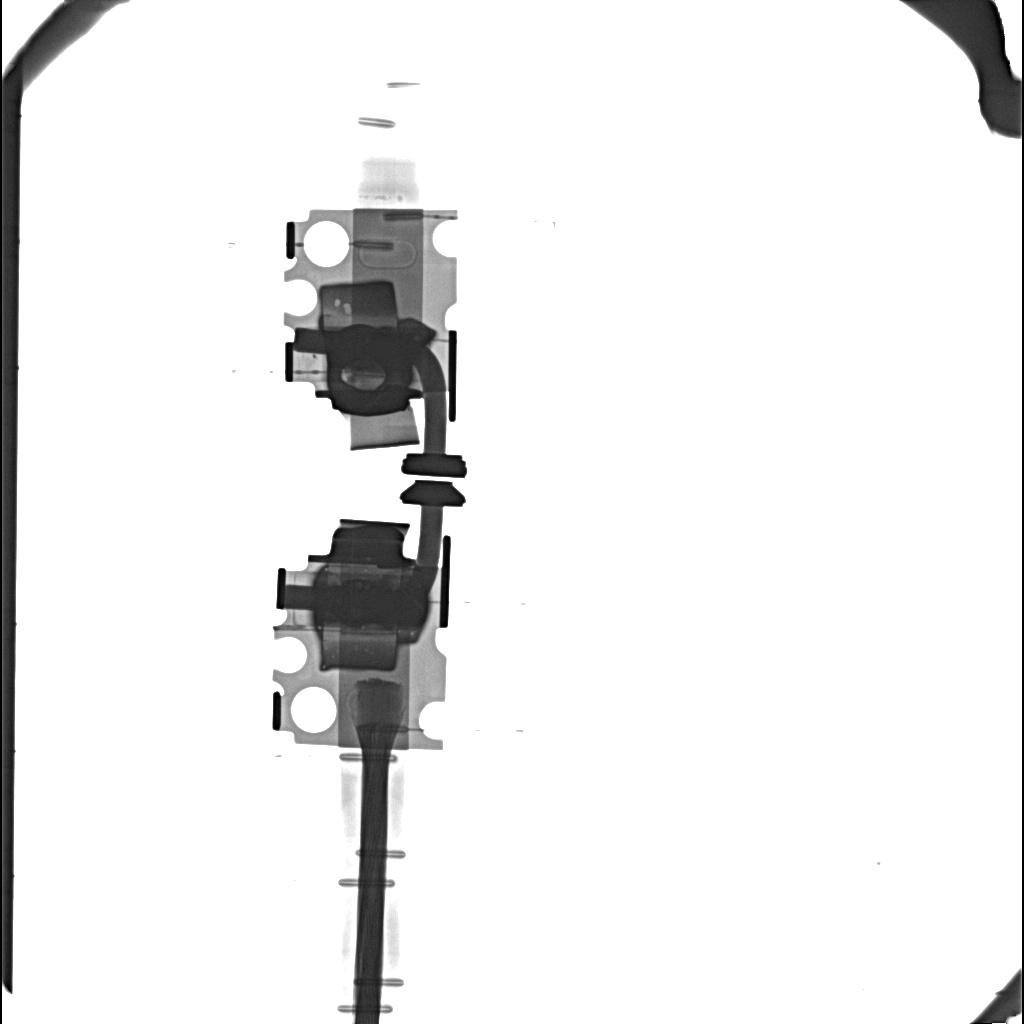PX: (319, 281, 399, 329), (320, 626, 400, 672)
QP: (341, 369, 384, 392)
SX: (312, 582, 428, 628), (323, 326, 423, 368)
